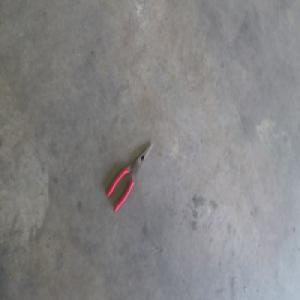Pliers: (106, 138, 154, 210)
